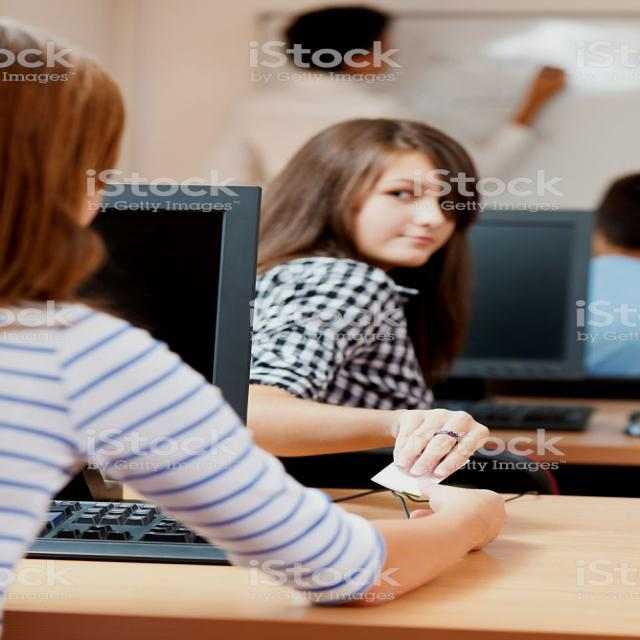cheating: (260, 110, 494, 389), (326, 377, 523, 606)
